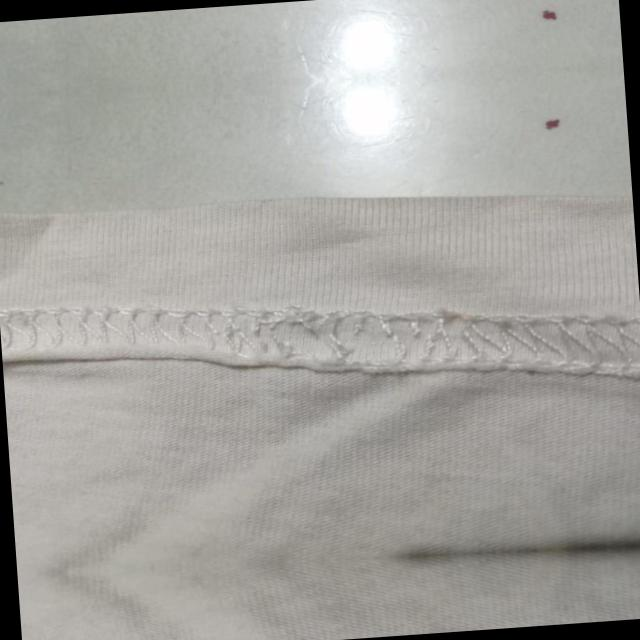gray stitch: (314, 287, 640, 404), (2, 283, 321, 395)
